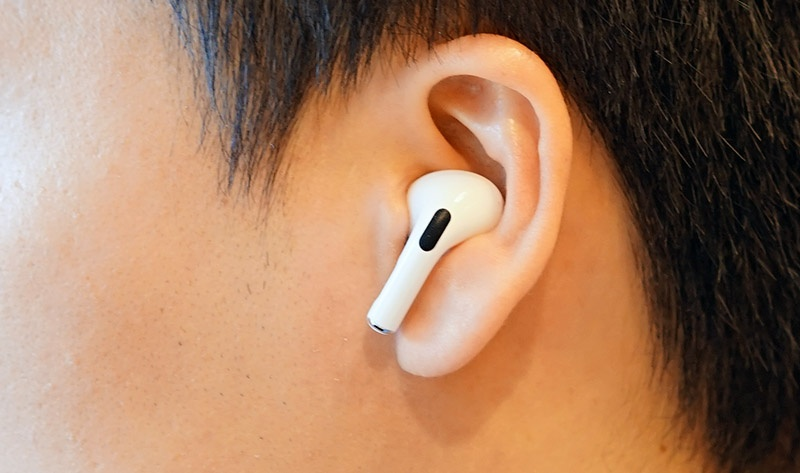earphone: (364, 33, 571, 379)
